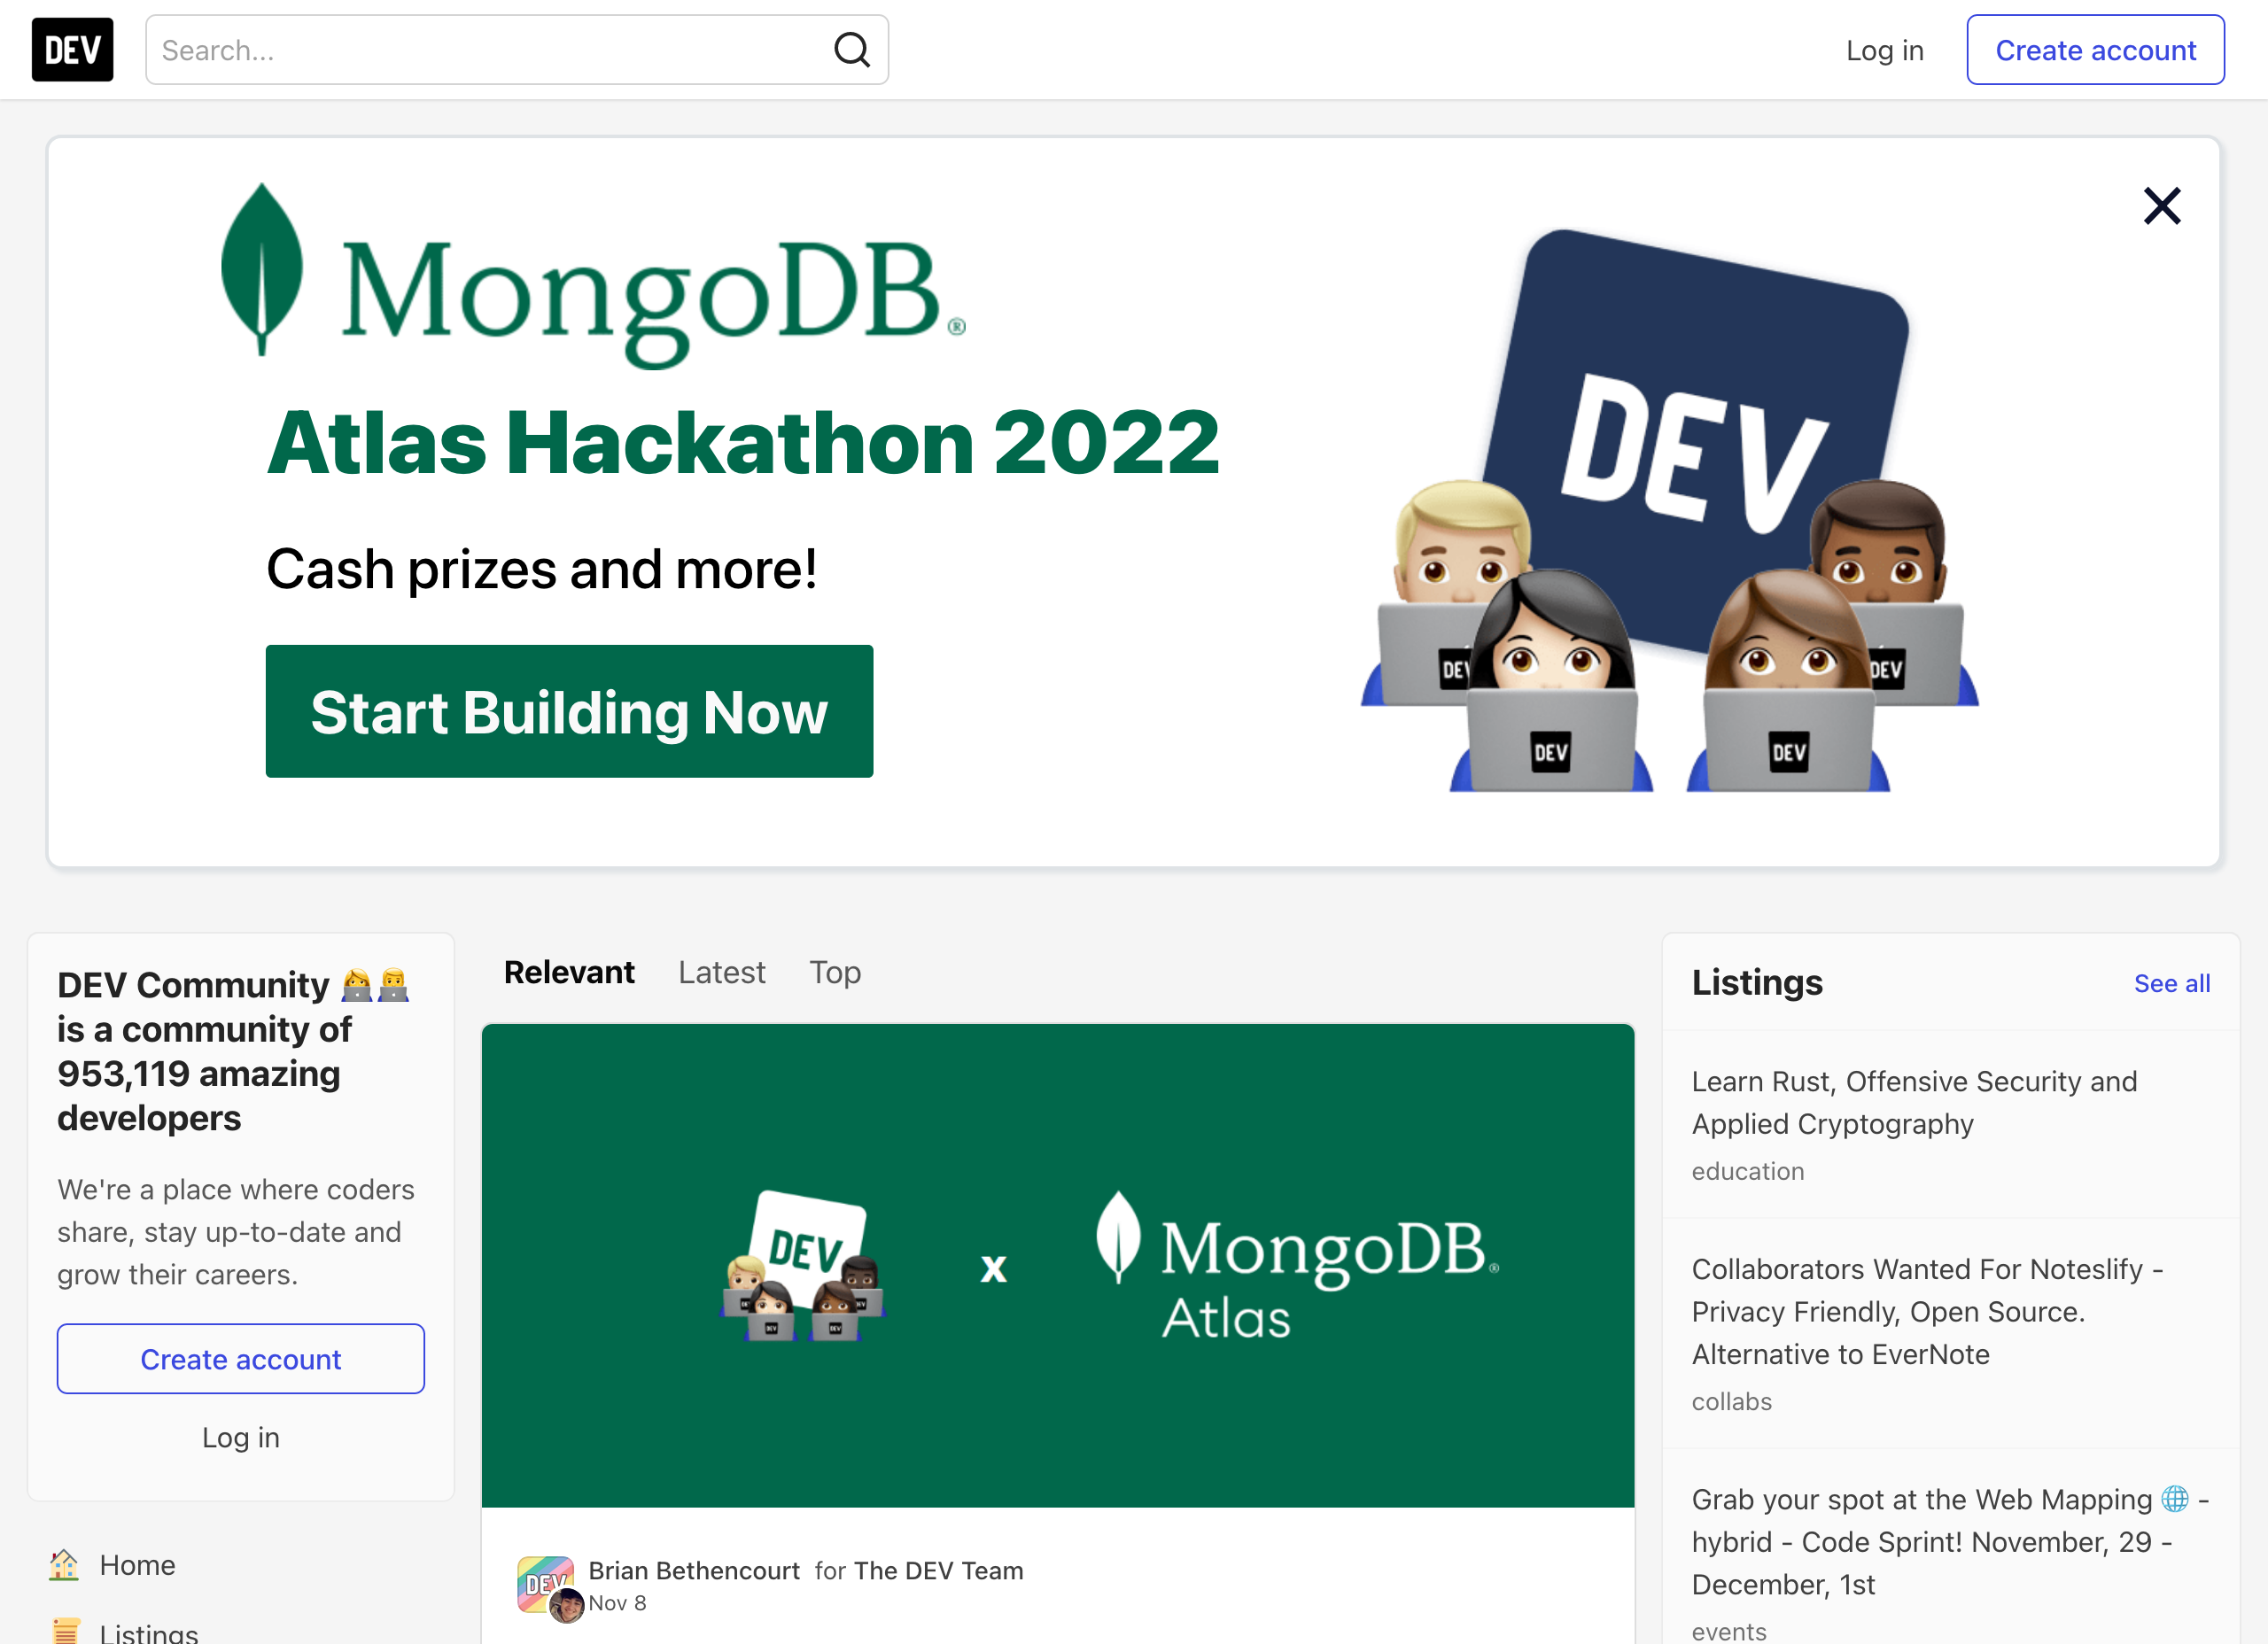Login: (1824, 18, 1948, 79)
